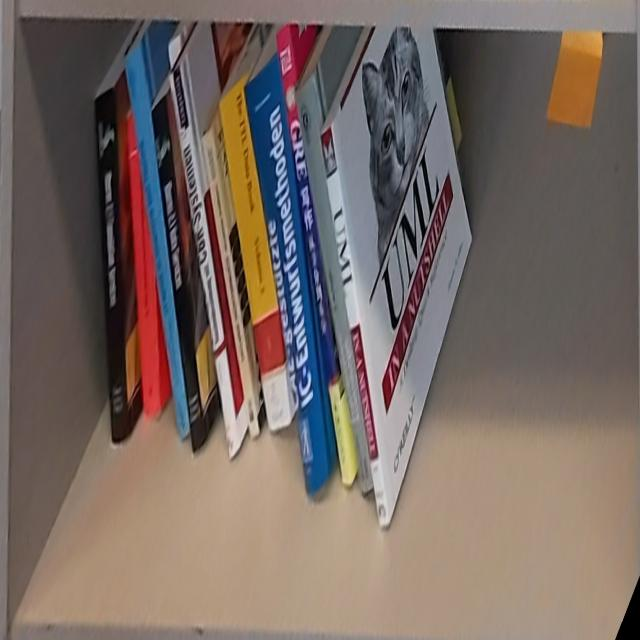Book Spine: (244, 52, 332, 496), (275, 24, 354, 489), (295, 74, 373, 499), (319, 126, 390, 530), (168, 65, 239, 462), (122, 42, 191, 440), (218, 80, 291, 432), (150, 94, 206, 451), (201, 126, 260, 446), (91, 86, 129, 445), (123, 110, 160, 417)
